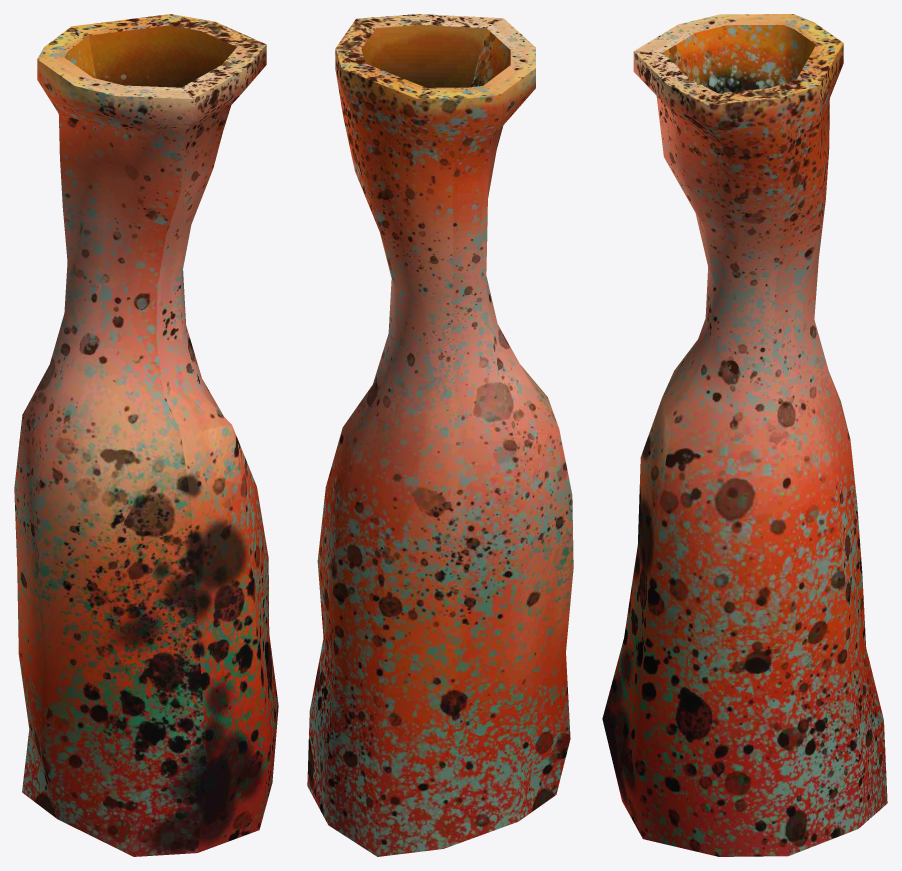
File: Vase.fbx
3 views of the same model, side by side, from view 1: azimuth 30°, elevation 25°; view 2: azimuth 150°, elevation 25°; view 3: azimuth 270°, elevation 25° (orthographic).
Visible parts, largest first — view 1: Cube; view 2: Cube; view 3: Cube.
Boxes of the visible parts, left/top/right/bottom form: Cube: left=14, top=14, right=278, bottom=856; Cube: left=307, top=14, right=573, bottom=856; Cube: left=602, top=14, right=887, bottom=856.
Size of the model in its own units: 23.65 by 71.01 by 24.33.
